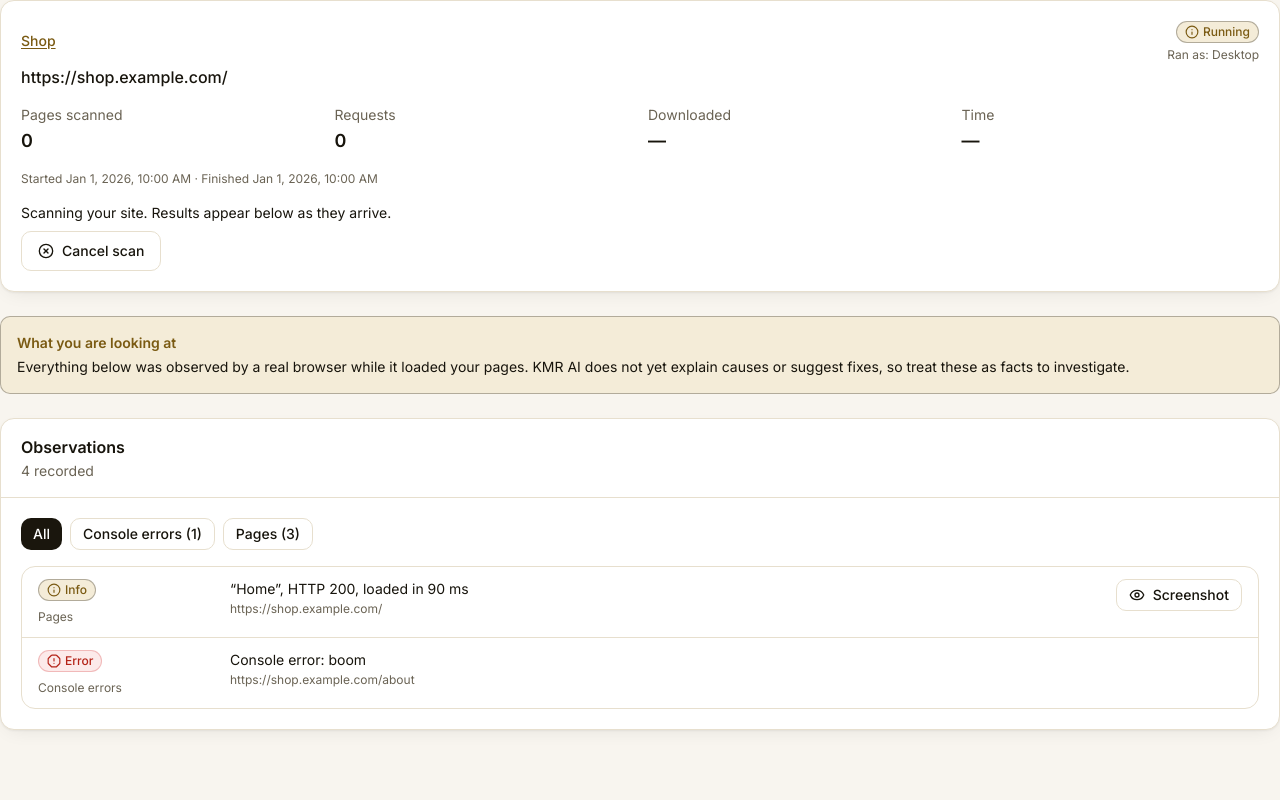
Test case: ScanView › asks for confirmation, then cancels
Click the button "Cancel scan": (91, 251) top-left (21, 231), bottom-right (161, 271)
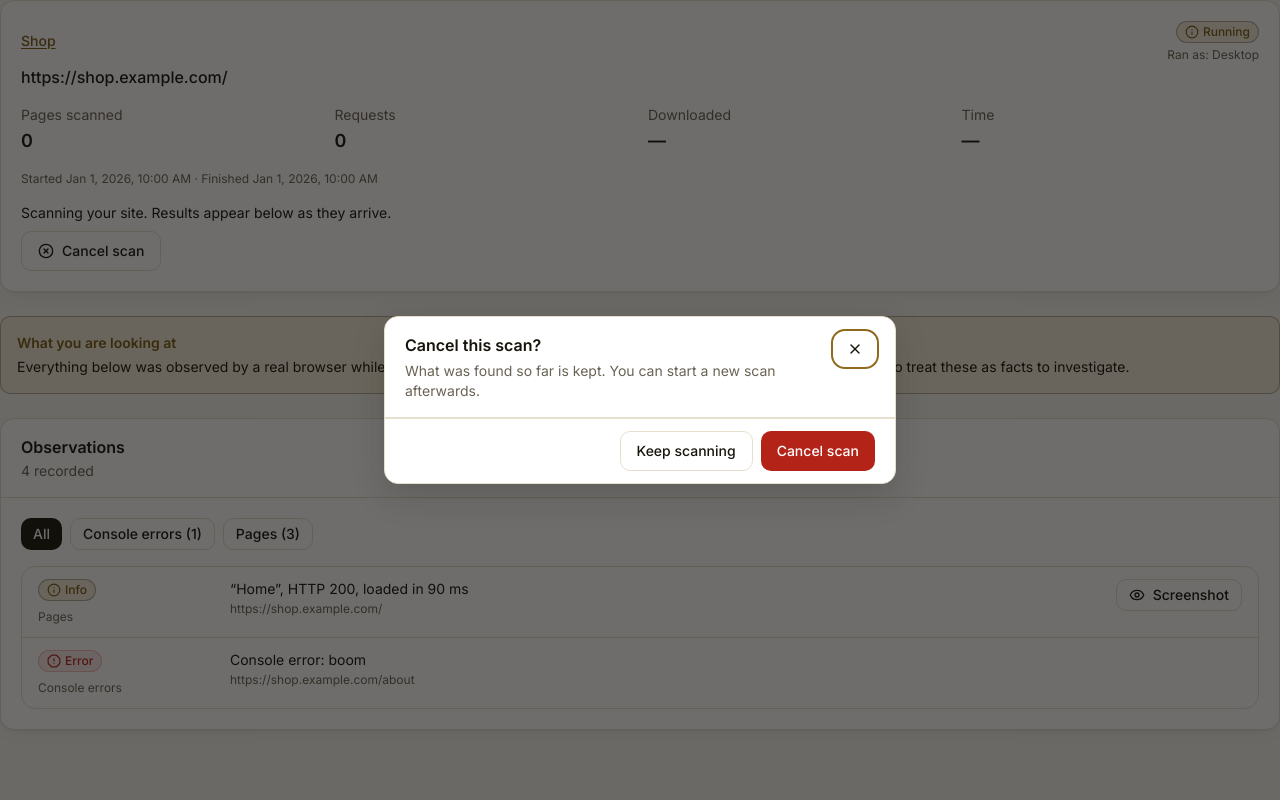
Click the button "Cancel scan": (818, 451) top-left (761, 431), bottom-right (875, 471)
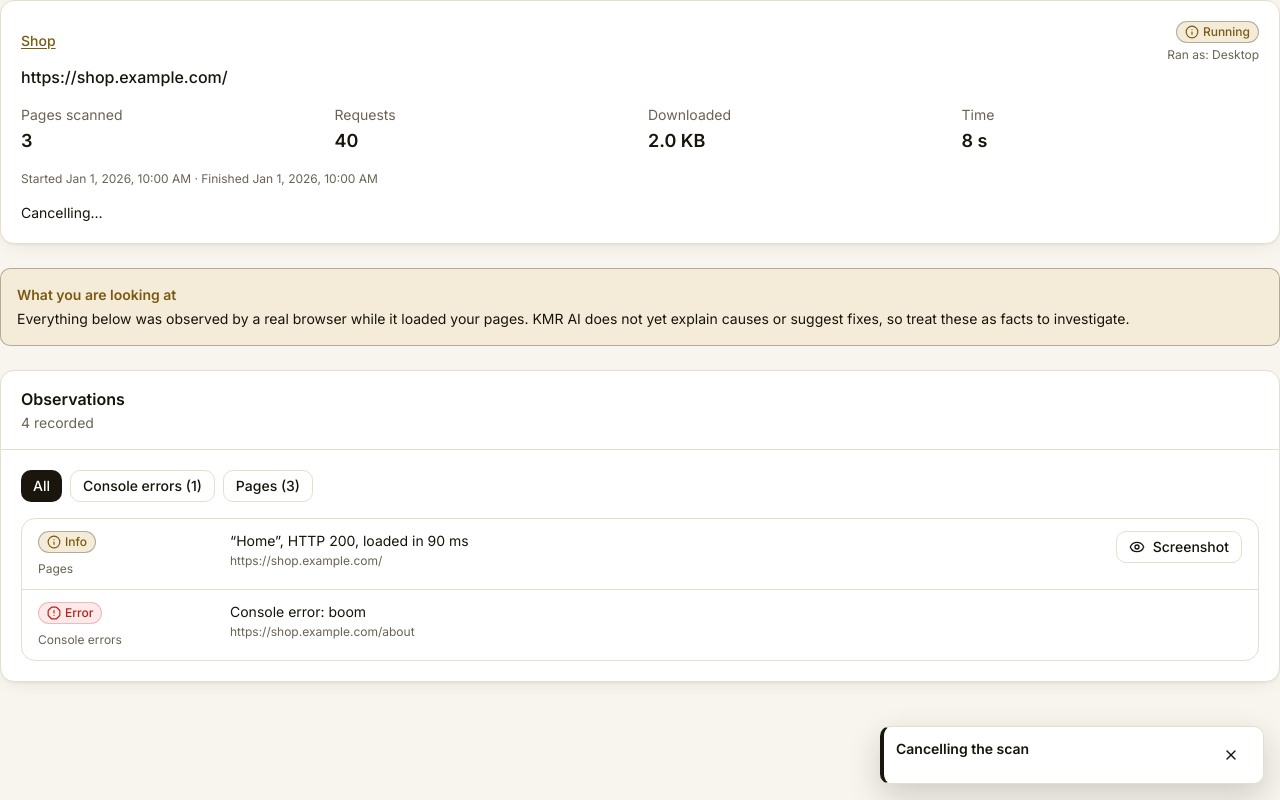
Result: the text "Cancelling…" is shown at top-left (21, 204), bottom-right (103, 221)
